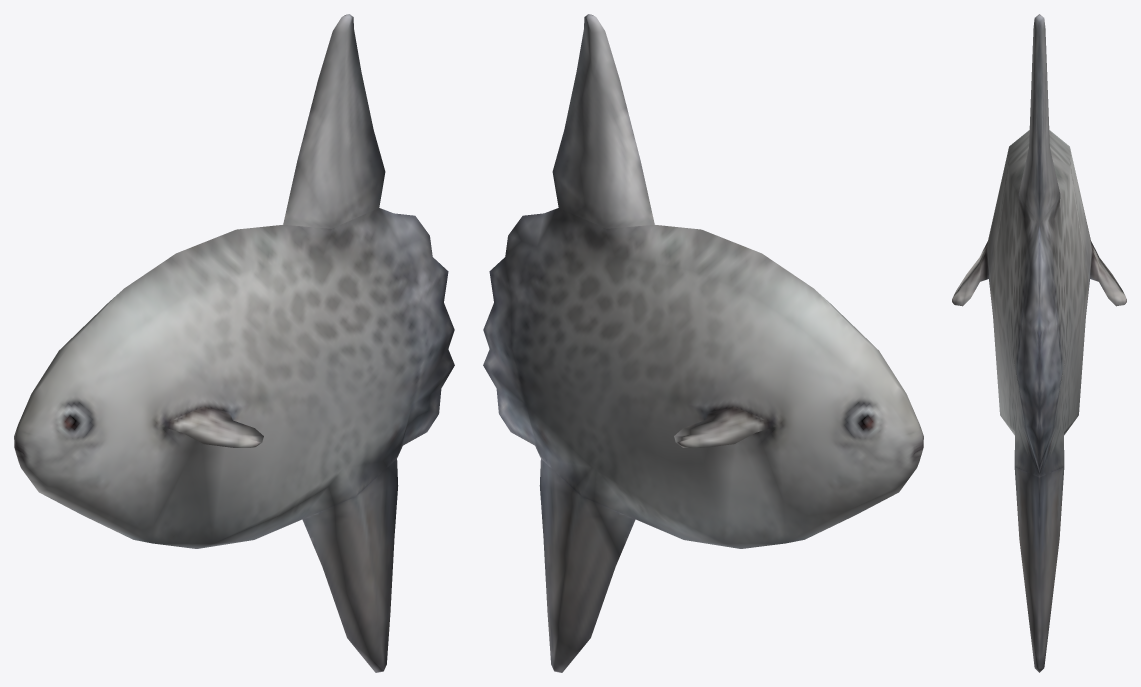
The model's file is f22_fancheyu.FBX.
3 renders of one model, left to right at view 1: azimuth 30°, elevation 25°; view 2: azimuth 150°, elevation 25°; view 3: azimuth 270°, elevation 25°, orthographic. The views are drawn at different scales.
Visible parts, largest first — view 1: f22_fancheyu; view 2: f22_fancheyu; view 3: f22_fancheyu.
Boxes of the visible parts, box(x1,y1,x2,y2) form: f22_fancheyu: box(14, 14, 454, 672); f22_fancheyu: box(483, 14, 923, 672); f22_fancheyu: box(952, 14, 1126, 672).
Bounding box in the file's own units: 126 × 182 × 45.06.
Materials: 1 (1 with a texture image).
